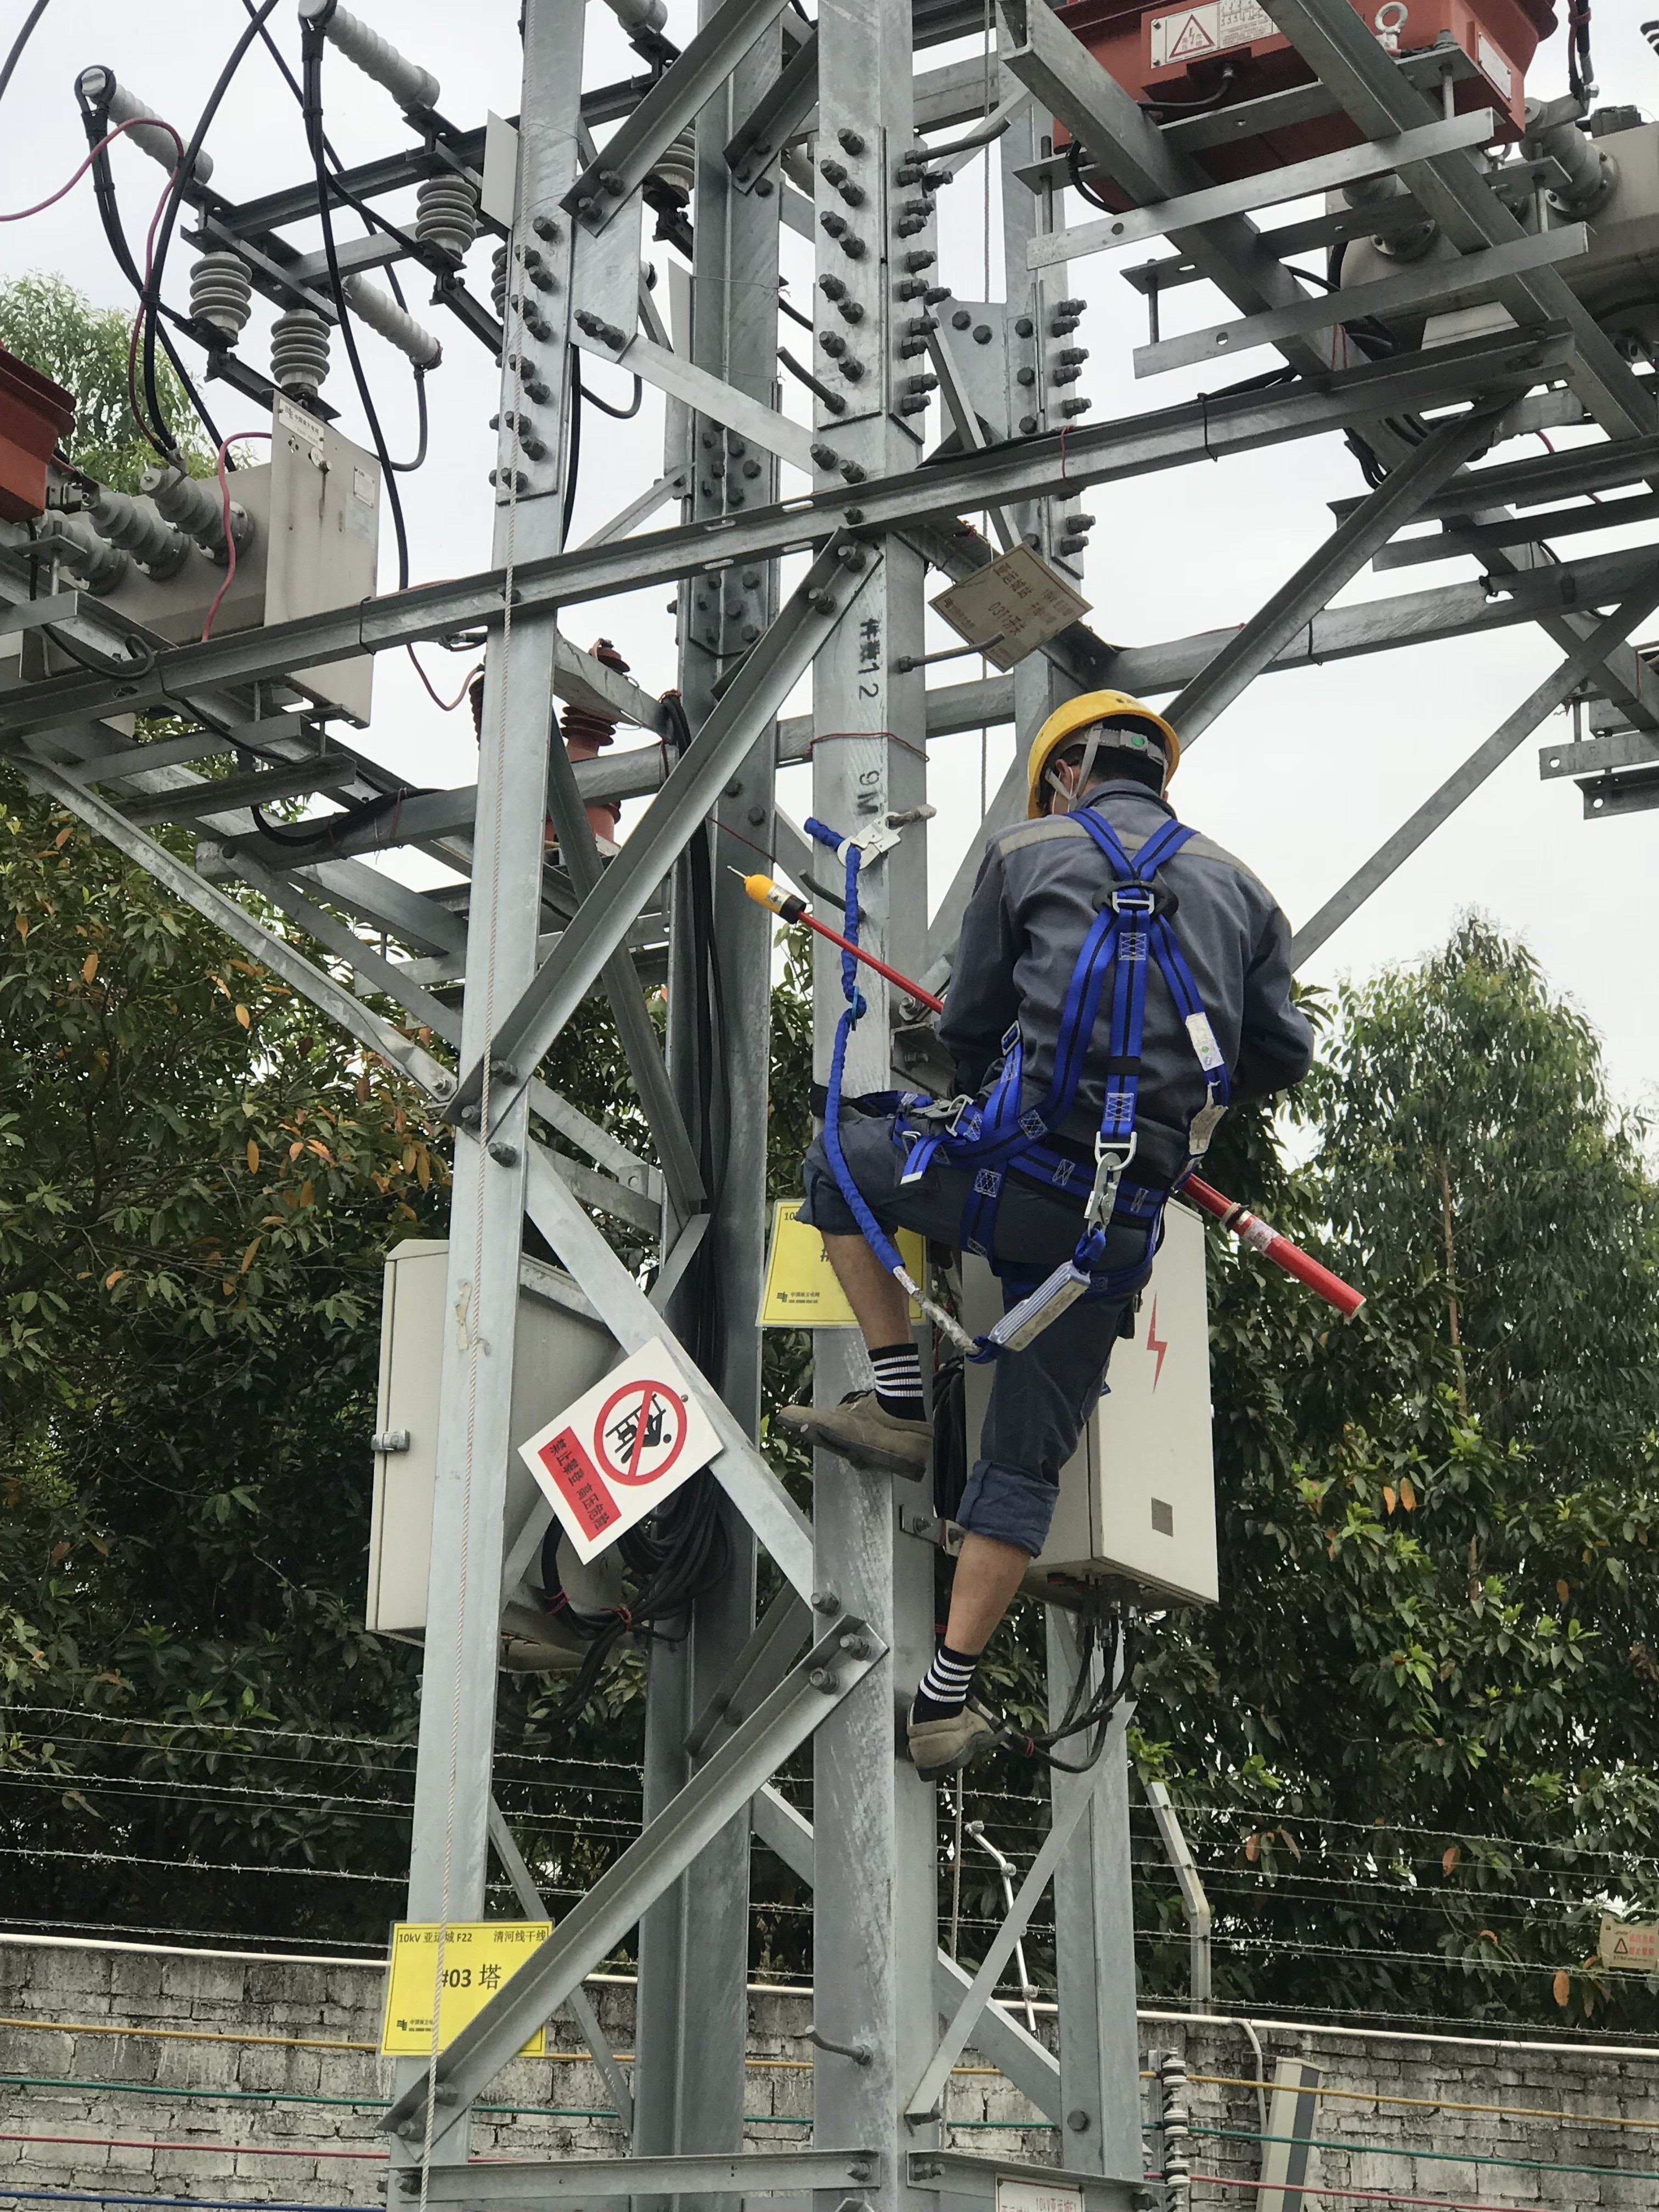downsuit: (819, 1082, 1121, 1588)
upsuit: (924, 805, 1340, 1163)
wrongbottom: (816, 1148, 927, 1378), (950, 1451, 1054, 1693)
